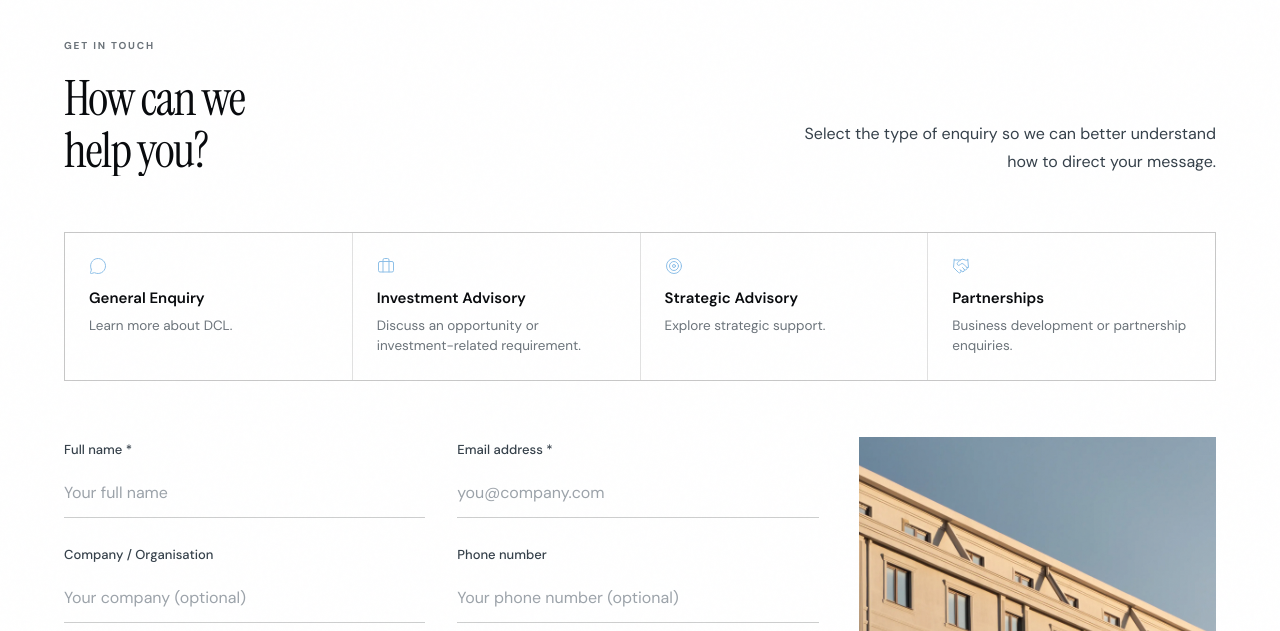
Test: HowCanWeHelp › shows the honest not-connected notice after a fully valid submission, with no fabricated success claim
The width and height of the screenshot is (1280, 631).
In the field labelled "Full name *": (245, 493) [64,469,425,518], type "Jane Smith"
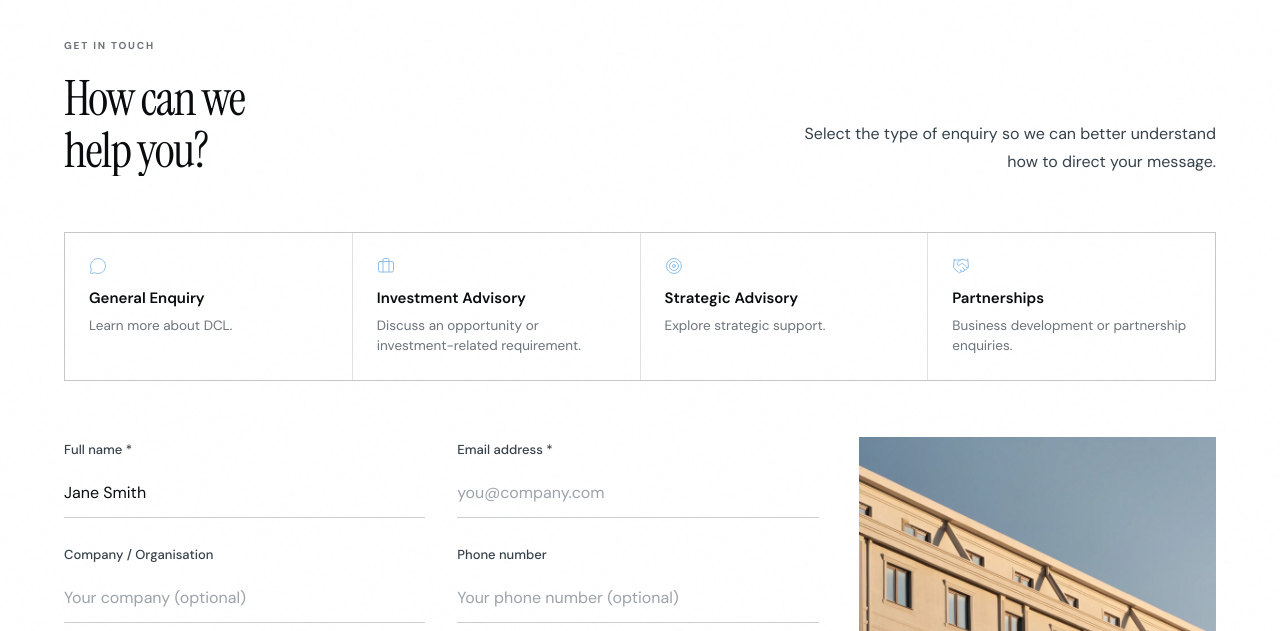
In the field labelled "Email address *": (638, 493) [457,469,819,518], type "jane@example.com"
(page scrolled)
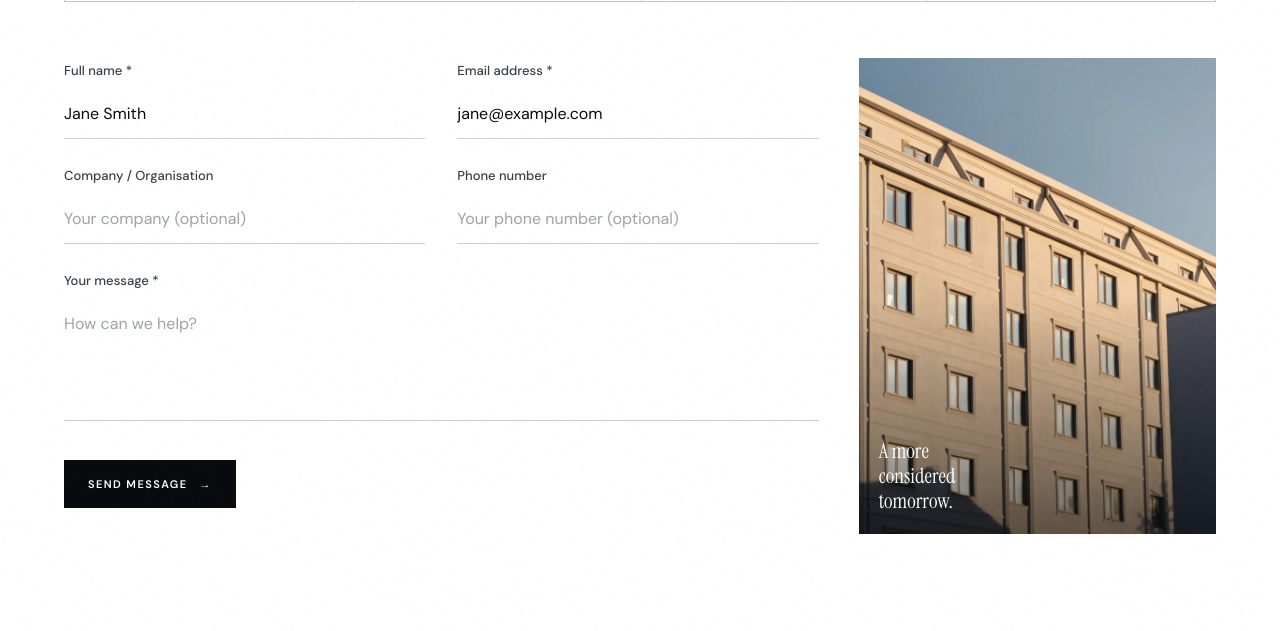
In the text box labelled "Your message *": (441, 360) [64,300,819,421], type "I would like to discuss an opportunity."
(page scrolled)
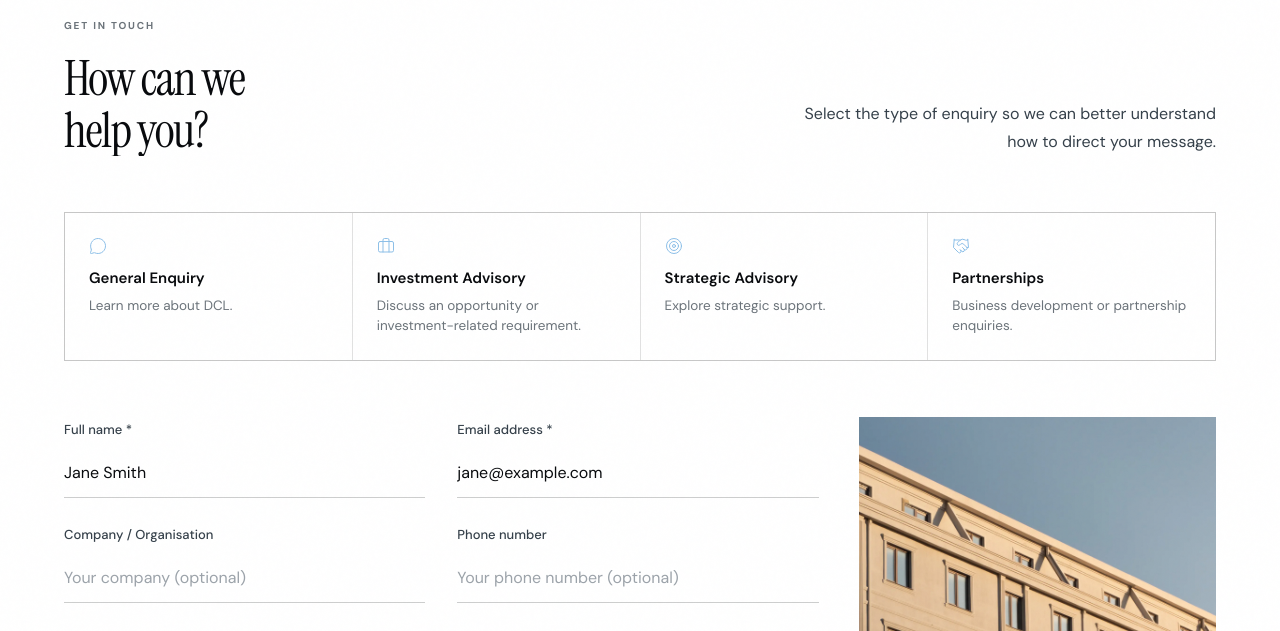
Click the radio button with test id "enquiry-type-general": (147, 278) [65,213,352,360]
(page scrolled)
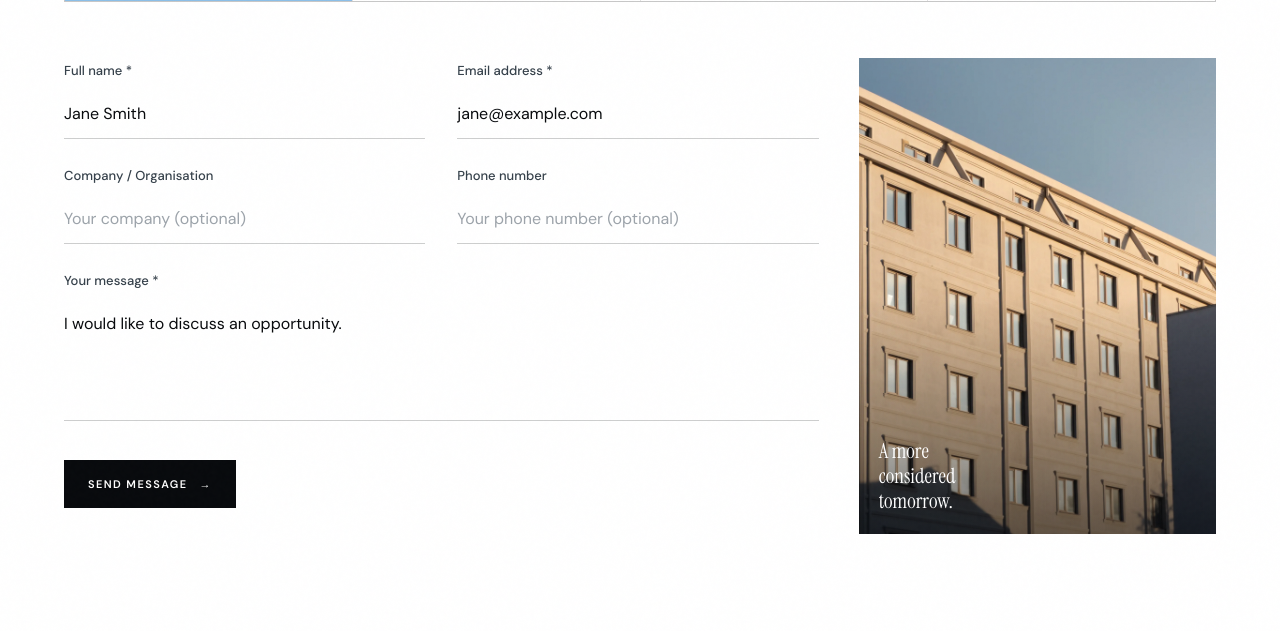
Click the button with test id "button-contact-submit": (150, 484) [64,460,236,508]
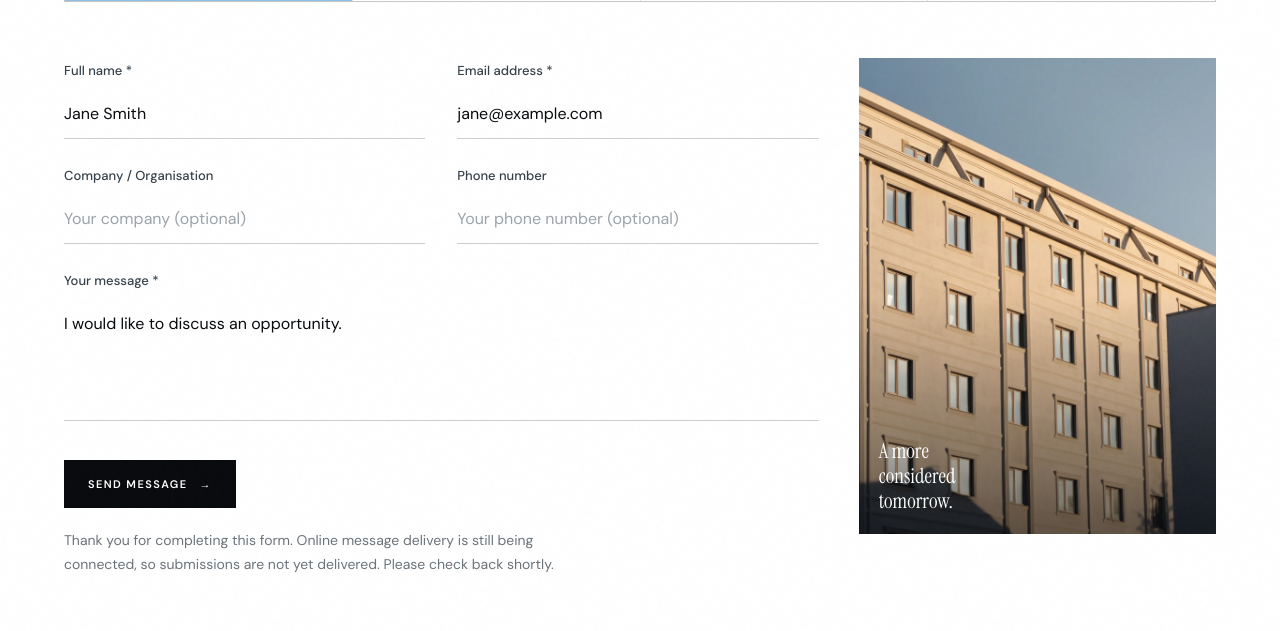
expect the message with test id "text-contact-not-connected" shows "Thank you for completing this form. Online message delivery is still being connected, so submissions are not yet delivered. Please check back shortly.": met, box [64,531,554,573]
